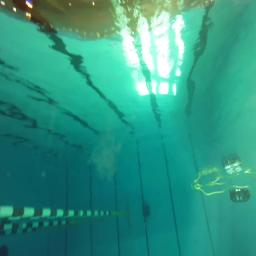Side: (230, 188, 250, 203)
